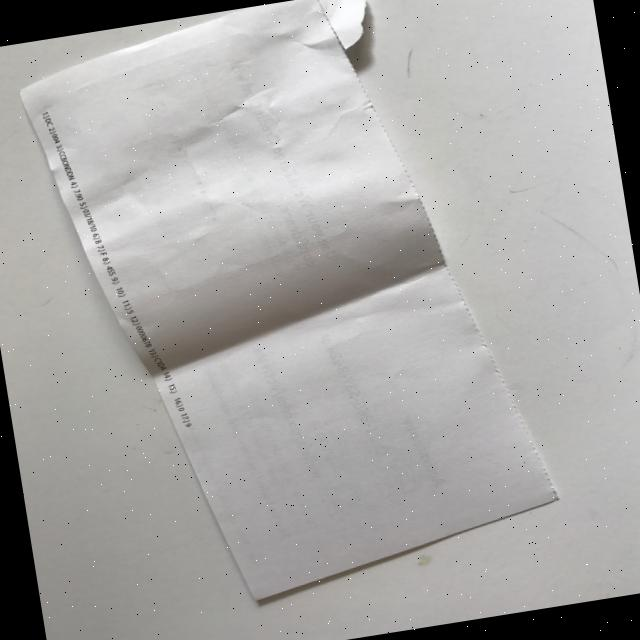paper: (10, 0, 569, 626)
